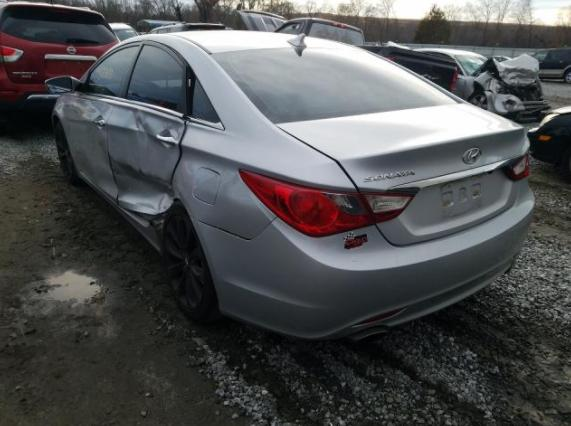Back-bumper: (191, 180, 537, 343)
Back-door: (107, 40, 187, 242)
Back-wheel: (163, 205, 226, 323)
Back-window: (127, 45, 181, 108), (191, 77, 221, 123)
Back-windshield: (210, 47, 466, 124)
Fender: (51, 92, 83, 171)
Front-door: (75, 42, 143, 206)
Front-wheel: (55, 123, 83, 184)
Front-window: (87, 46, 138, 97)
Mirror: (45, 75, 84, 94)
Quarter-panel: (172, 116, 359, 239)
Rocker-panel: (77, 170, 162, 254)
Roof: (144, 31, 359, 53)
Tail-light: (239, 169, 373, 239), (361, 191, 414, 223), (500, 159, 520, 180), (519, 148, 530, 180)
Trunk: (275, 102, 530, 247)
